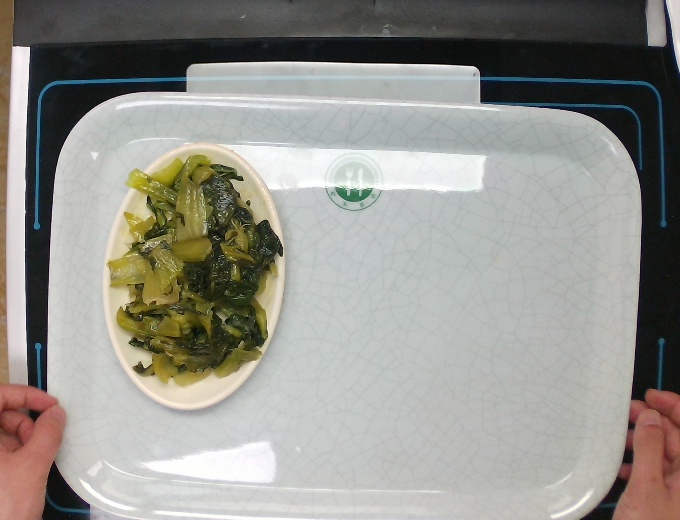JYsf-Tuo_Yuan_Wan: (99, 136, 291, 419)
